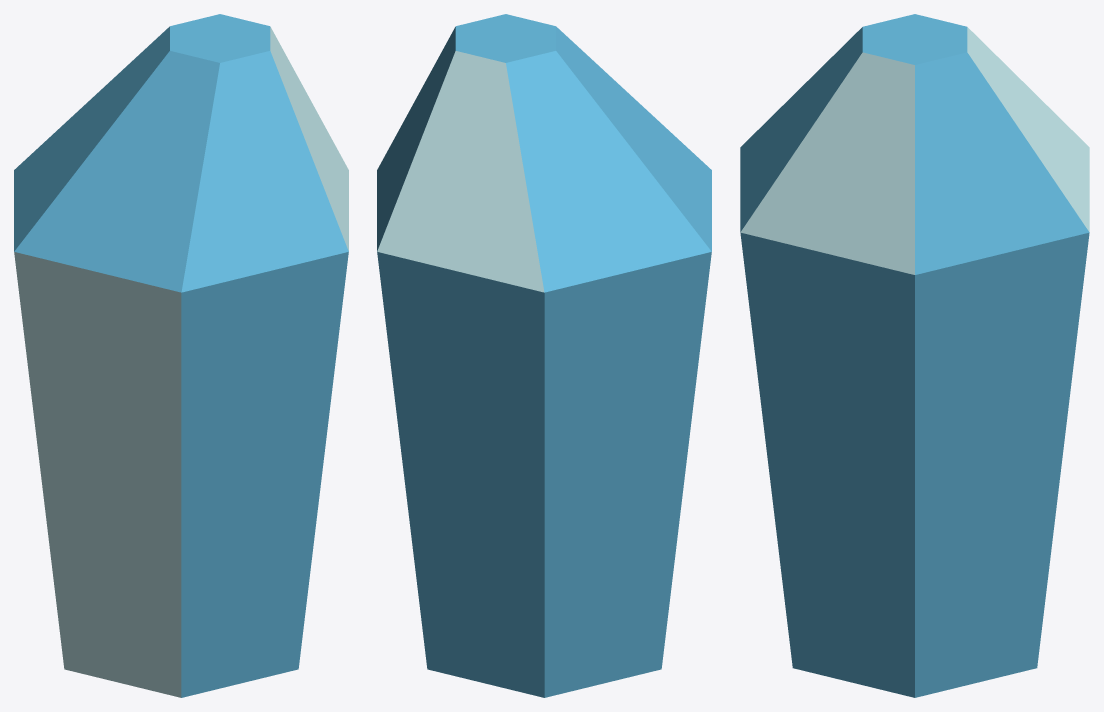
The picture shows the model from 3 angles, left to right: view 1: azimuth 30°, elevation 25°; view 2: azimuth 150°, elevation 25°; view 3: azimuth 270°, elevation 25°; orthographic projection. The views are drawn at different scales.
Parts seen in each view (by area): view 1: Ice_Fragment; view 2: Ice_Fragment; view 3: Ice_Fragment.
Part boxes in pixels (left/top/right/bottom): Ice_Fragment: left=14, top=14, right=348, bottom=697; Ice_Fragment: left=377, top=14, right=711, bottom=697; Ice_Fragment: left=740, top=14, right=1089, bottom=697.
Bounding box in the file's own units: 0.52 × 0.88 × 0.4503.
